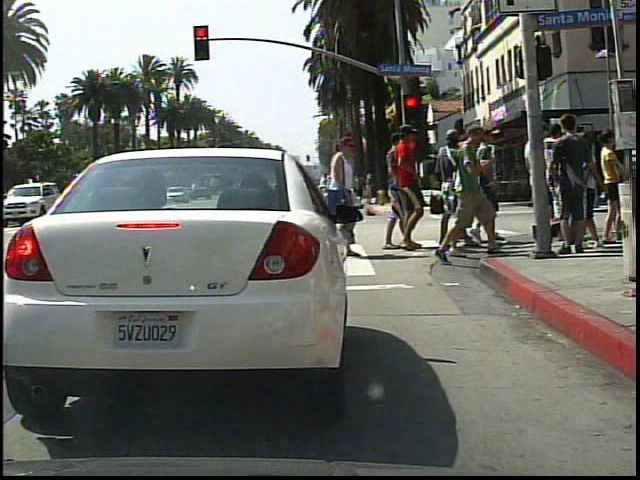person: (322, 129, 370, 264)
